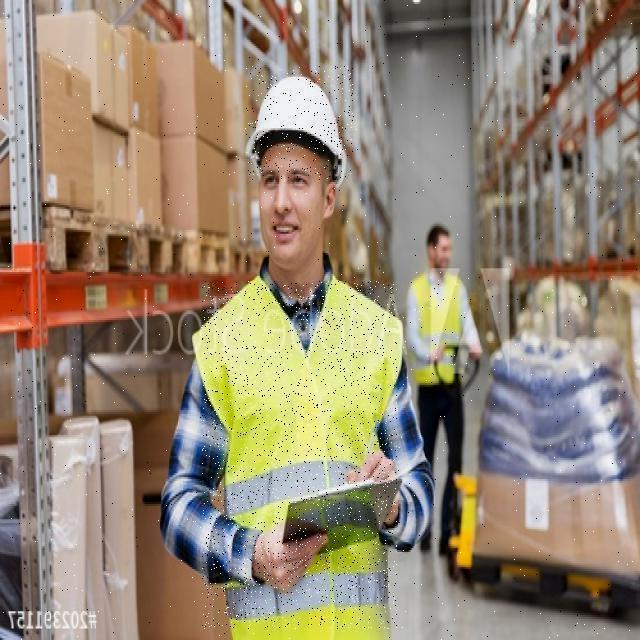Helmet: (246, 66, 354, 180)
Vest: (202, 282, 397, 630), (410, 271, 466, 389)
